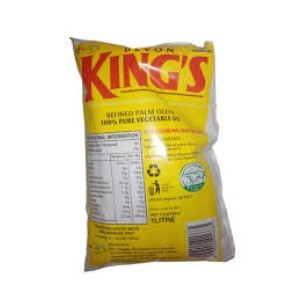vegetable oil_brain food: (77, 59, 206, 237)
